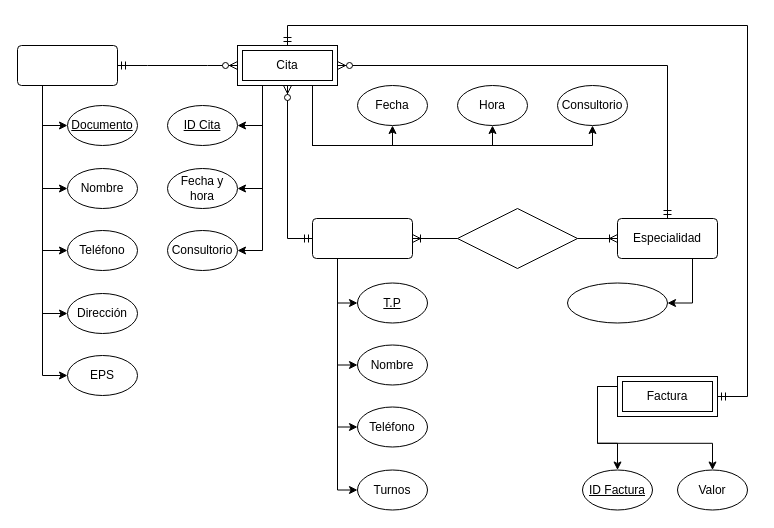
This 774x528 diagram has some shape labels left out. Here are the shapes that lost their labels. From the top down, the centre of each, then its label:
[67,65]: Paciente
[362,238]: Médico
[517,238]: Ejerce
[617,302]: ID Especialidad
